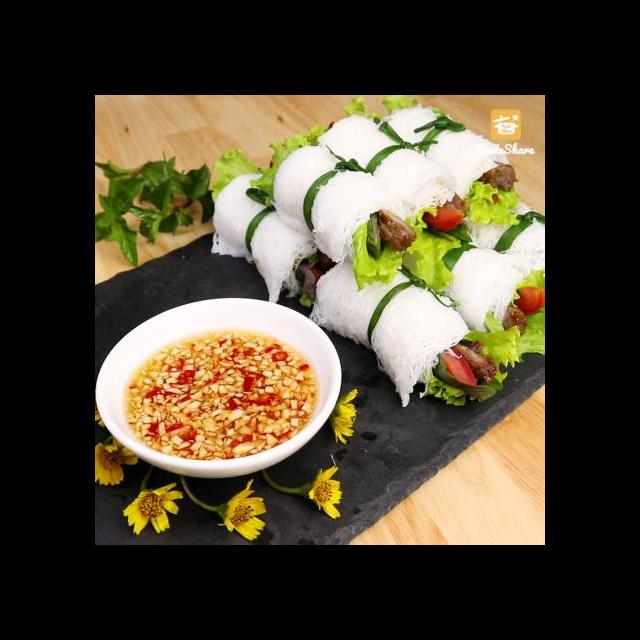banh hoi: (302, 254, 474, 411), (204, 170, 334, 312), (269, 141, 409, 269), (315, 110, 460, 229), (400, 222, 534, 345), (375, 101, 513, 207), (456, 186, 545, 281)
banh hoi heo quay: (102, 127, 545, 545)
thit heo quay: (443, 332, 500, 388), (367, 206, 420, 256), (471, 157, 522, 196), (497, 301, 531, 341)
